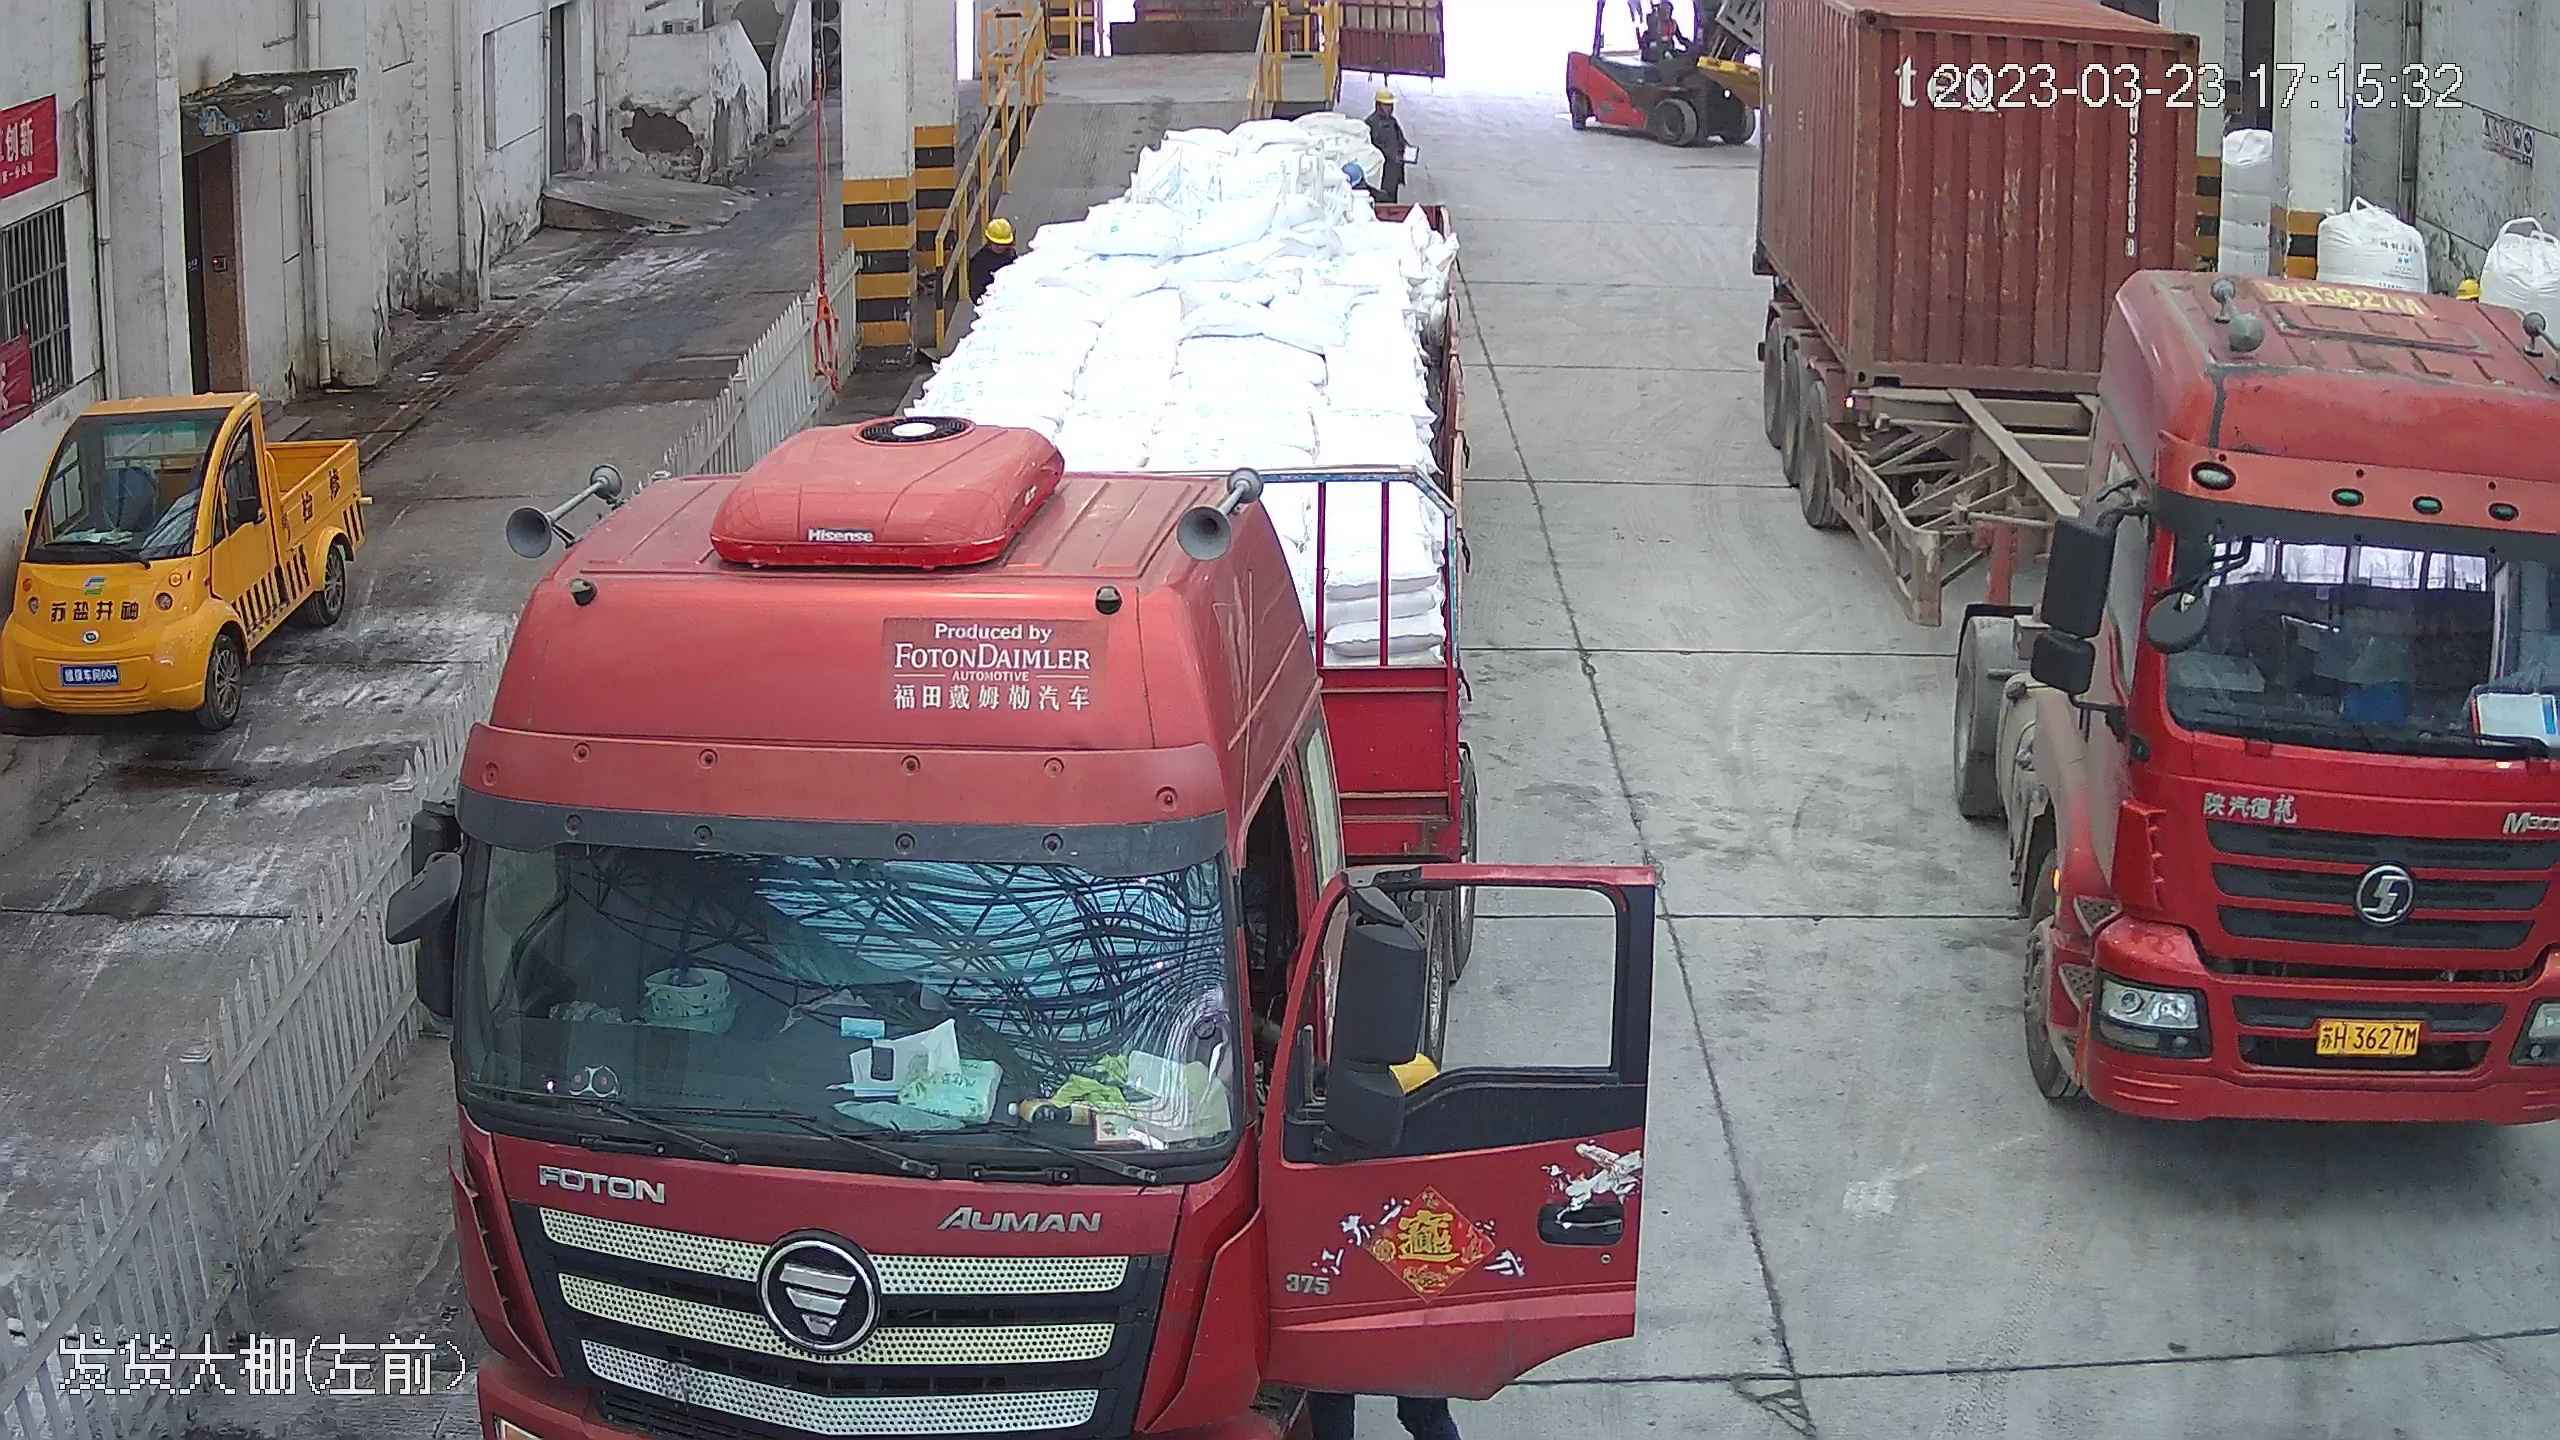head: (959, 215, 1025, 283), (1363, 81, 1405, 130)
helmet: (979, 215, 1017, 245), (1368, 82, 1396, 106)
people: (1358, 78, 1416, 214)
truck: (390, 16, 1510, 1440), (1750, 2, 2557, 1151)
